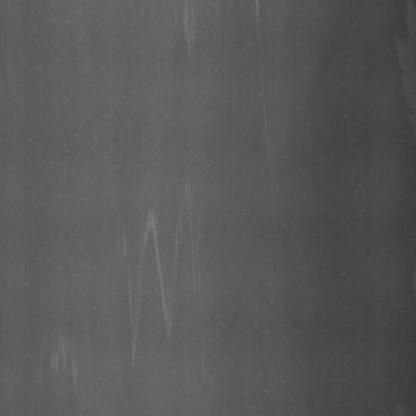silk_spot: (116, 194, 193, 382), (51, 312, 82, 393), (176, 5, 213, 55)
